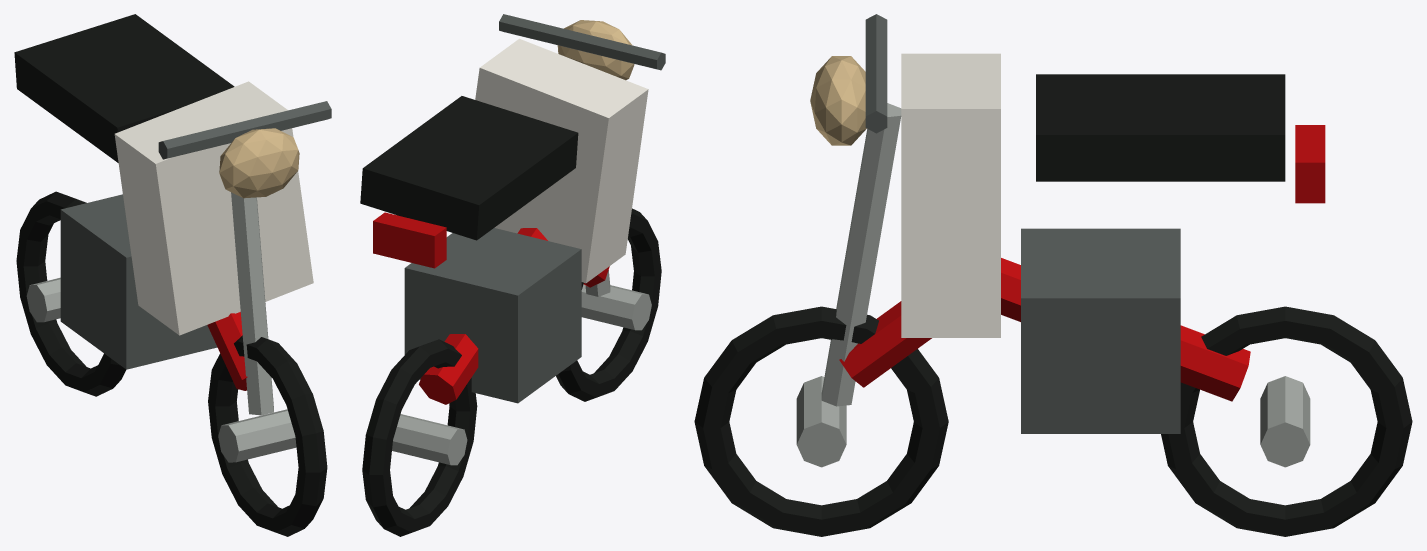
File: MotorBebek.obj
The picture shows the model from 3 angles, left to right: view 1: azimuth 30°, elevation 25°; view 2: azimuth 150°, elevation 25°; view 3: azimuth 270°, elevation 25°; orthographic projection. The views are drawn at different scales.
Visible parts, largest first — view 1: LEG_SHIELD, SEAT, ENGINE, WHEEL_-0.46, WHEEL_0.47, FORK, HEADLAMP, HANDLE, HUB_-0.46, FRAME2, HUB_0.47; view 2: ENGINE, LEG_SHIELD, SEAT, WHEEL_0.47, WHEEL_-0.46, TAIL_RED, HANDLE, HUB_0.47, FRAME1, HUB_-0.46, HEADLAMP; view 3: ENGINE, LEG_SHIELD, SEAT, WHEEL_-0.46, WHEEL_0.47, FORK, FRAME1, HEADLAMP, HUB_0.47, HUB_-0.46, FRAME2, HANDLE (+1 smaller).
Part boxes in pixels (<box>): LEG_SHIELD: <box>114,81,313,335</box>; SEAT: <box>14,14,234,162</box>; ENGINE: <box>60,194,217,369</box>; WHEEL_-0.46: <box>208,335,327,536</box>; WHEEL_0.47: <box>16,191,125,396</box>; FORK: <box>231,192,273,415</box>; HEADLAMP: <box>219,128,299,198</box>; HANDLE: <box>158,101,331,159</box>; HUB_-0.46: <box>218,409,296,462</box>; FRAME2: <box>207,312,247,390</box>; HUB_0.47: <box>26,277,60,322</box>; ENGINE: <box>404,228,581,403</box>; LEG_SHIELD: <box>475,38,648,283</box>; SEAT: <box>360,96,578,240</box>; WHEEL_0.47: <box>362,339,477,536</box>; WHEEL_-0.46: <box>556,208,661,401</box>; TAIL_RED: <box>373,212,446,268</box>; HANDLE: <box>499,14,665,70</box>; HUB_0.47: <box>392,414,467,465</box>; FRAME1: <box>419,228,547,404</box>; HUB_-0.46: <box>581,284,651,330</box>; HEADLAMP: <box>557,20,634,80</box>; ENGINE: <box>1021,228,1180,433</box>; LEG_SHIELD: <box>901,53,1000,337</box>; SEAT: <box>1036,74,1285,181</box>; WHEEL_-0.46: <box>694,306,948,536</box>; WHEEL_0.47: <box>1161,306,1412,536</box>; FORK: <box>821,103,901,406</box>; FRAME1: <box>1001,258,1250,401</box>; HEADLAMP: <box>810,56,866,145</box>; HUB_0.47: <box>1260,376,1310,467</box>; HUB_-0.46: <box>796,376,846,467</box>; FRAME2: <box>839,301,931,387</box>; HANDLE: <box>865,14,887,133</box>.
Bounding box in the file's own units: 0.46 × 1.05 × 1.44.
